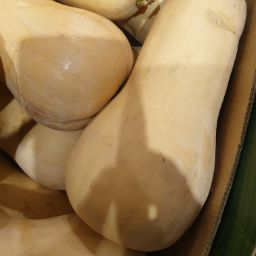Butternut Squash: (3, 96, 215, 256), (29, 85, 207, 246), (125, 2, 224, 237), (2, 1, 141, 147)
